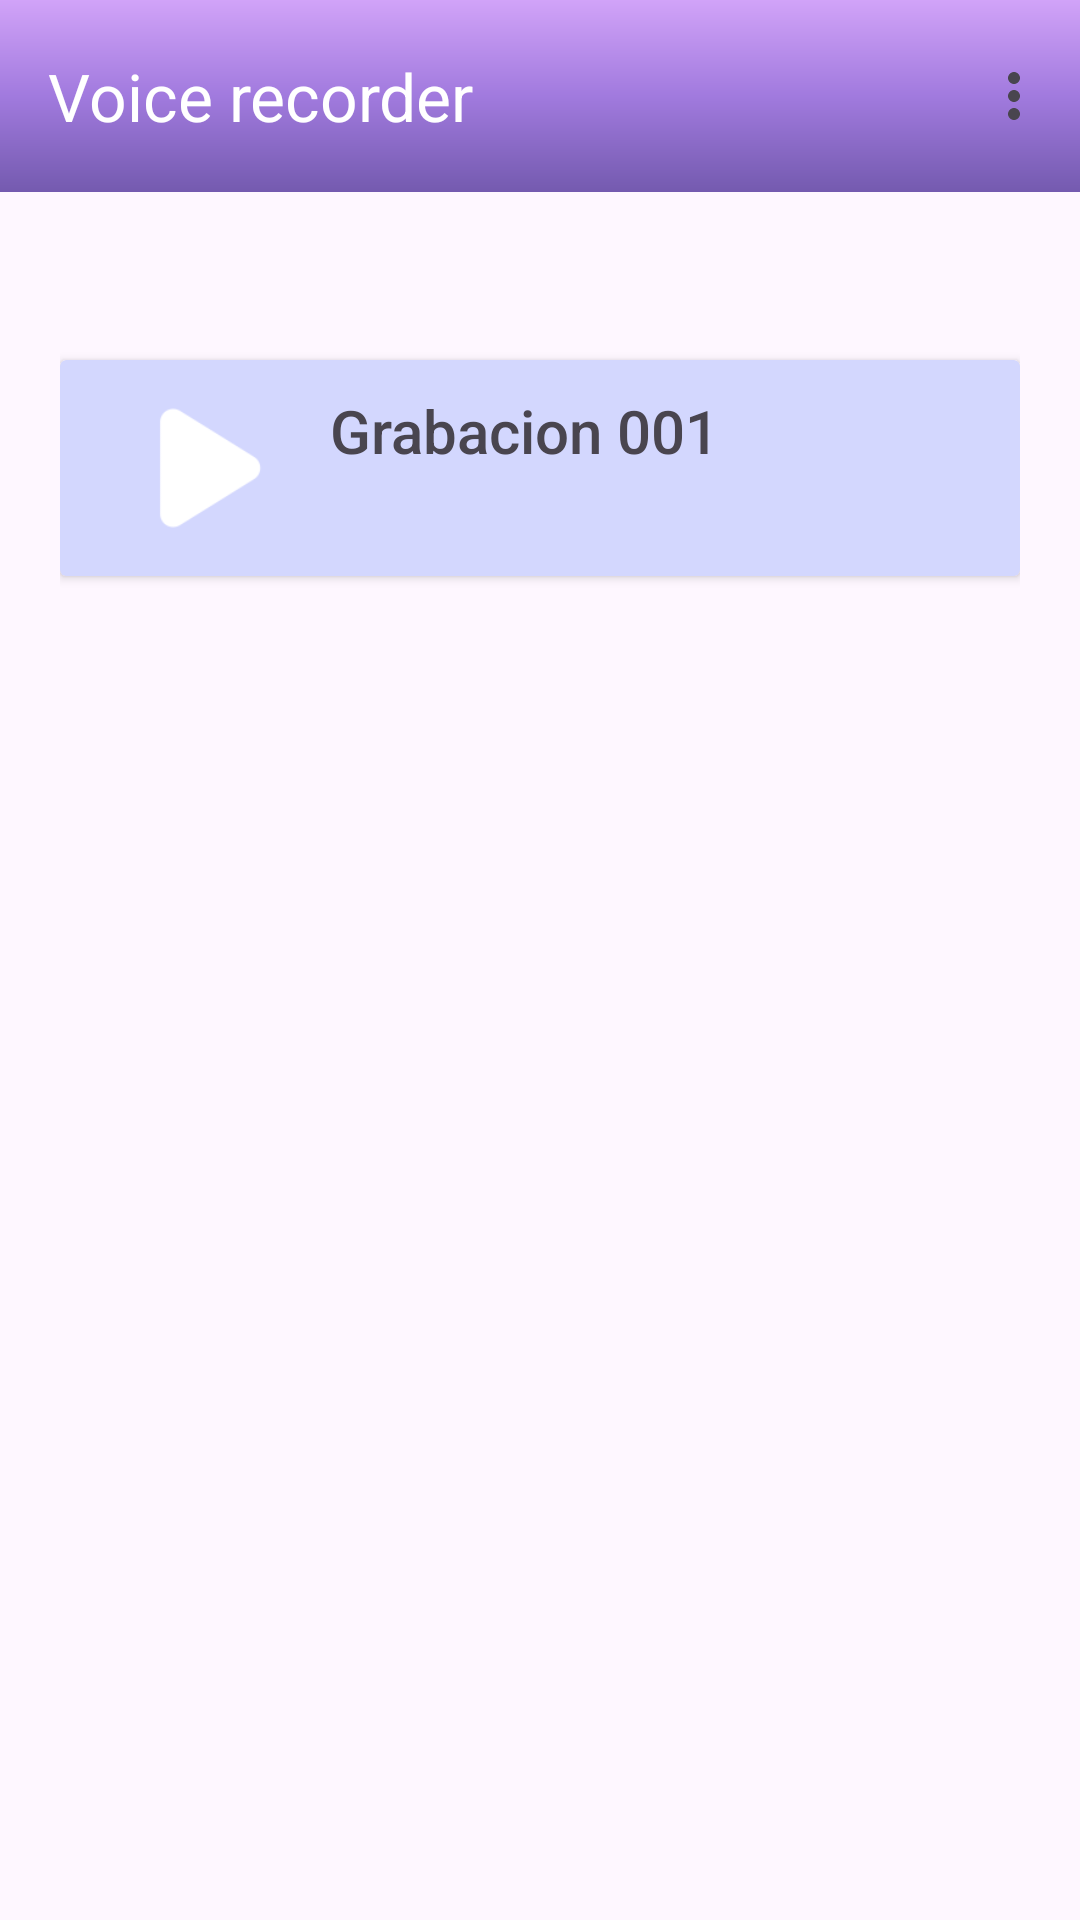

Named icons in this screenshot (1080px x 1920px) and their bounding boxes, [left=x1, top=y1, right=x2, bottom=y2]:
playicon: [left=160, top=409, right=260, bottom=527]
